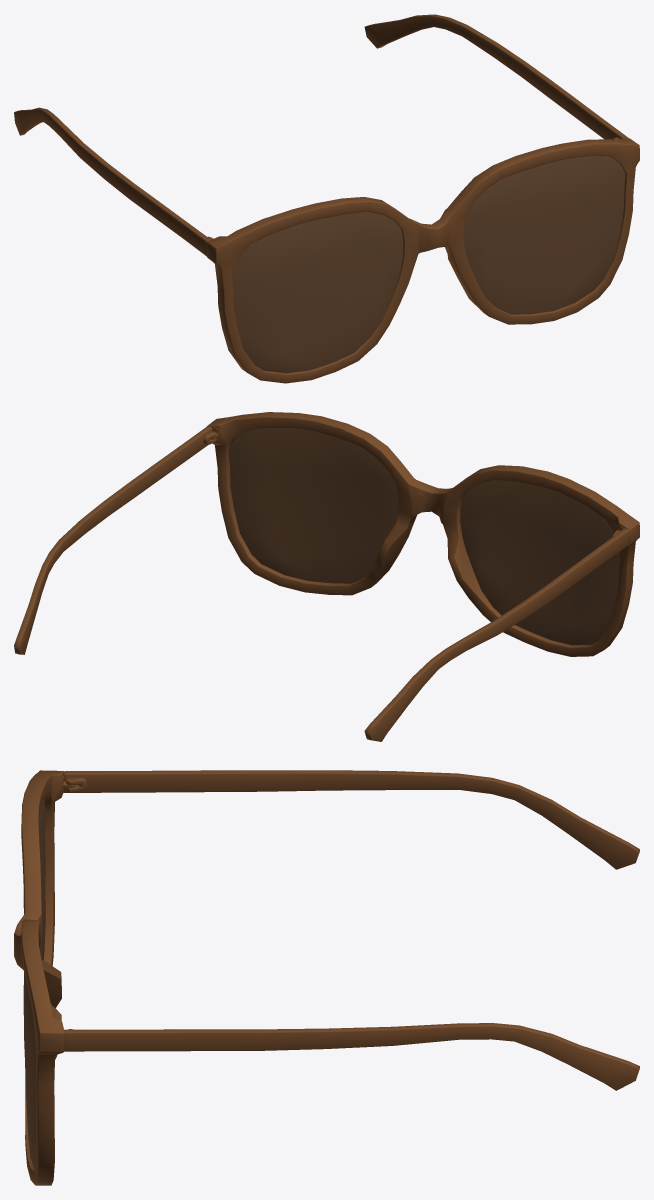
Rendered from sport-wrap-havana.glb.
3 renders of one model, top to bottom at view 1: azimuth 30°, elevation 25°; view 2: azimuth 150°, elevation 25°; view 3: azimuth 270°, elevation 25°, orthographic. The views are drawn at different scales.
Visible parts, largest first — view 1: OPTIK_PRODUCT_255; view 2: OPTIK_PRODUCT_255; view 3: OPTIK_PRODUCT_255.
Part boxes in pixels (x1,y1,x2,y2): OPTIK_PRODUCT_255: [14, 14, 639, 383]; OPTIK_PRODUCT_255: [14, 412, 639, 741]; OPTIK_PRODUCT_255: [14, 770, 639, 1185].
Size of the model in its own units: 0.1527 by 0.0593 by 0.1539.
